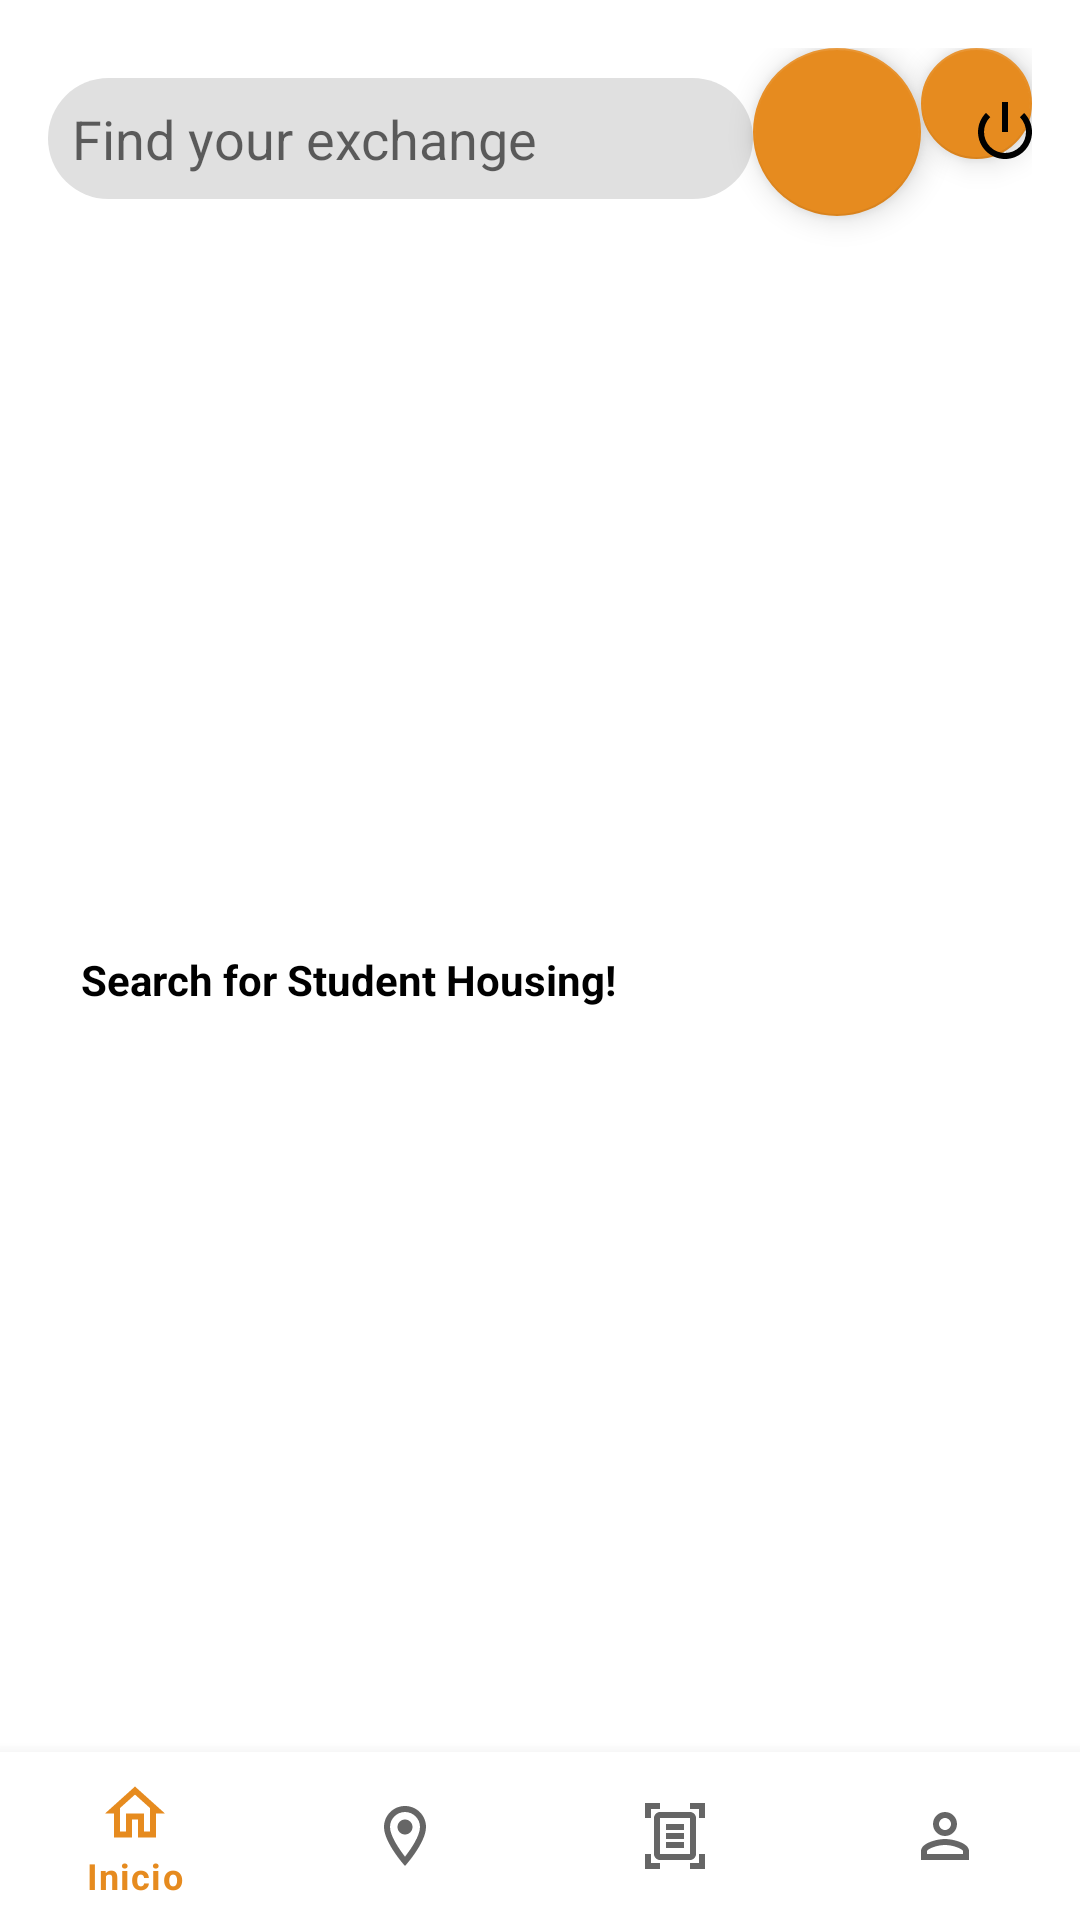

Named icons in this screenshot (1080 x 1920) and their centers, (x=x, y=y):
lock power off: (x=976, y=103)
